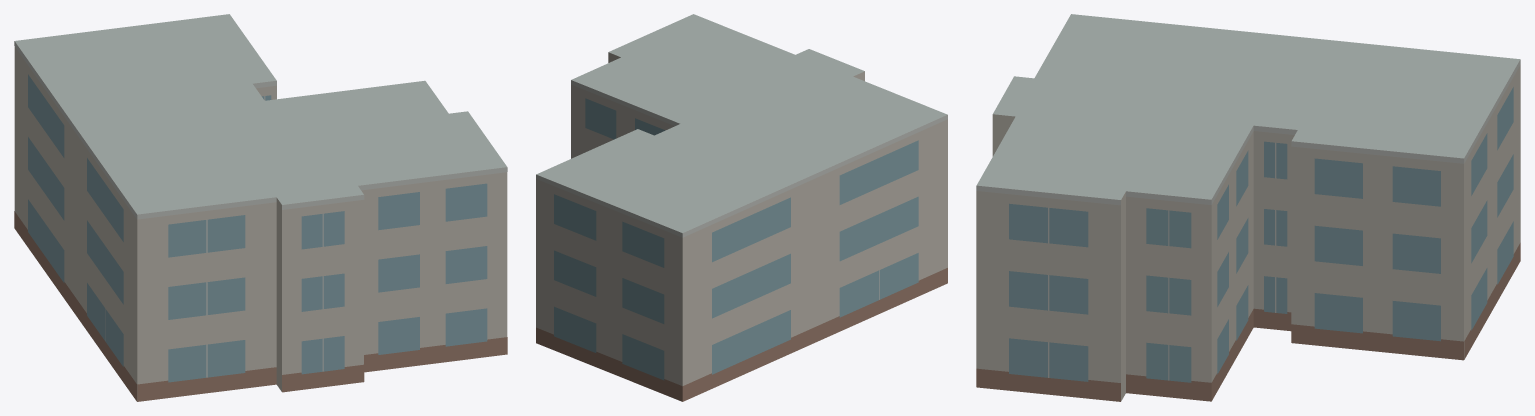
The model's file is survey-upis-32825669.glb.
3 renders of one model, left to right at view 1: azimuth 30°, elevation 25°; view 2: azimuth 150°, elevation 25°; view 3: azimuth 270°, elevation 25°, orthographic. The views are drawn at different scales.
Parts seen in each view (by area): view 1: survey-upis-32825669.tmp; view 2: survey-upis-32825669.tmp; view 3: survey-upis-32825669.tmp.
Boxes of the visible parts, x1,y1,x2,y2 form: survey-upis-32825669.tmp: (14,14,507,401); survey-upis-32825669.tmp: (536,14,947,401); survey-upis-32825669.tmp: (976,14,1520,401).
Bounding box in the file's own units: 18.11 × 9.15 × 22.37.
